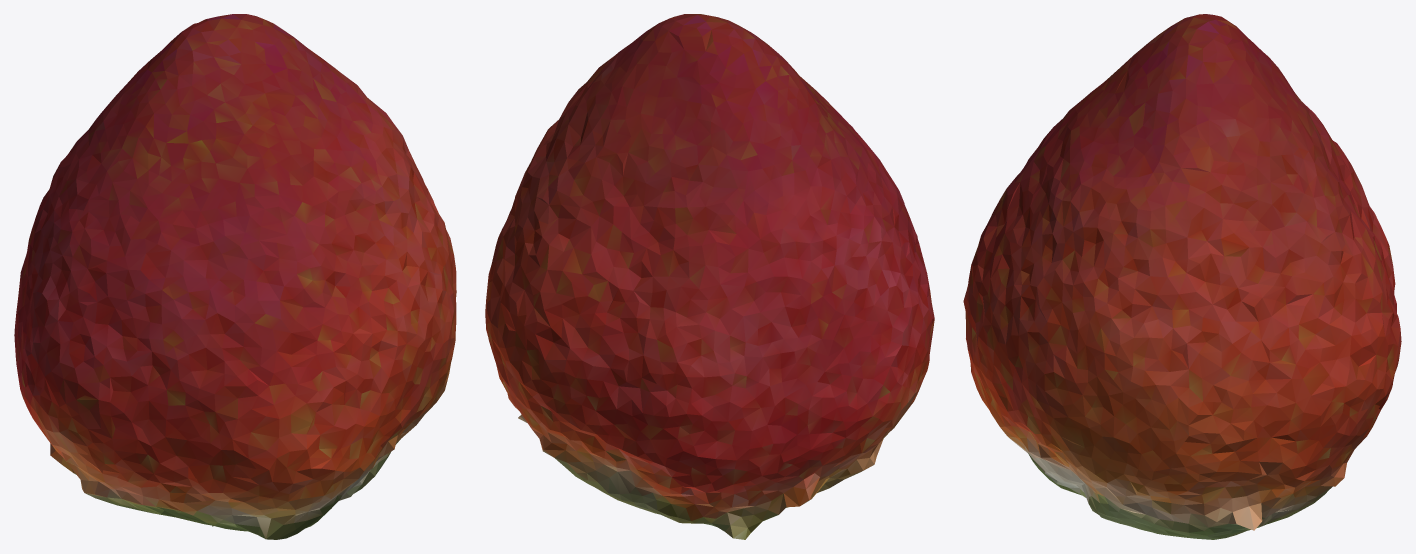
3 views of the same model, side by side, from view 1: azimuth 30°, elevation 25°; view 2: azimuth 150°, elevation 25°; view 3: azimuth 270°, elevation 25° (orthographic).
Visible parts, largest first — view 1: strawberry_05_visual; view 2: strawberry_05_visual; view 3: strawberry_05_visual.
Boxes of the visible parts, x1=… form: strawberry_05_visual: x1=14, y1=14, x2=456, y2=539; strawberry_05_visual: x1=485, y1=14, x2=934, y2=539; strawberry_05_visual: x1=963, y1=14, x2=1401, y2=539.
Size of the model in its own units: 0.9428 by 0.8929 by 1.12.
